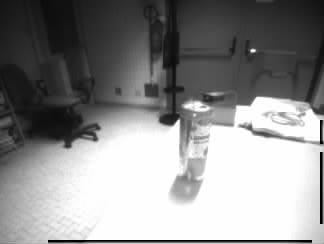Tin can: (179, 101, 207, 180)
